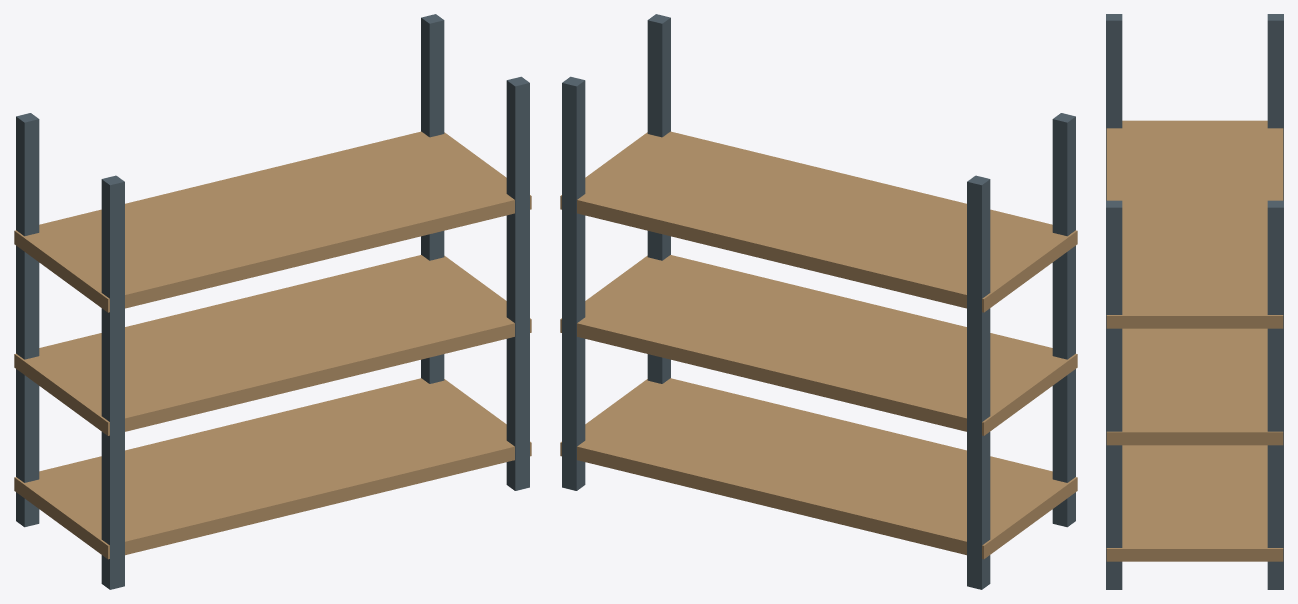
Rendered from football-soccer-club-grounds-boot-rack-1112eb8f.glb.
The picture shows the model from 3 angles, left to right: view 1: azimuth 30°, elevation 25°; view 2: azimuth 150°, elevation 25°; view 3: azimuth 270°, elevation 25°; orthographic projection. The views are drawn at different scales.
Parts seen in each view (by area): view 1: boot-rack; view 2: boot-rack; view 3: boot-rack.
Part boxes in pixels (bbox=[...]): boot-rack: bbox=[14, 14, 531, 589]; boot-rack: bbox=[560, 14, 1077, 589]; boot-rack: bbox=[1106, 14, 1283, 589].
Bounding box in the file's own units: 1.15 × 1.05 × 0.4424.
